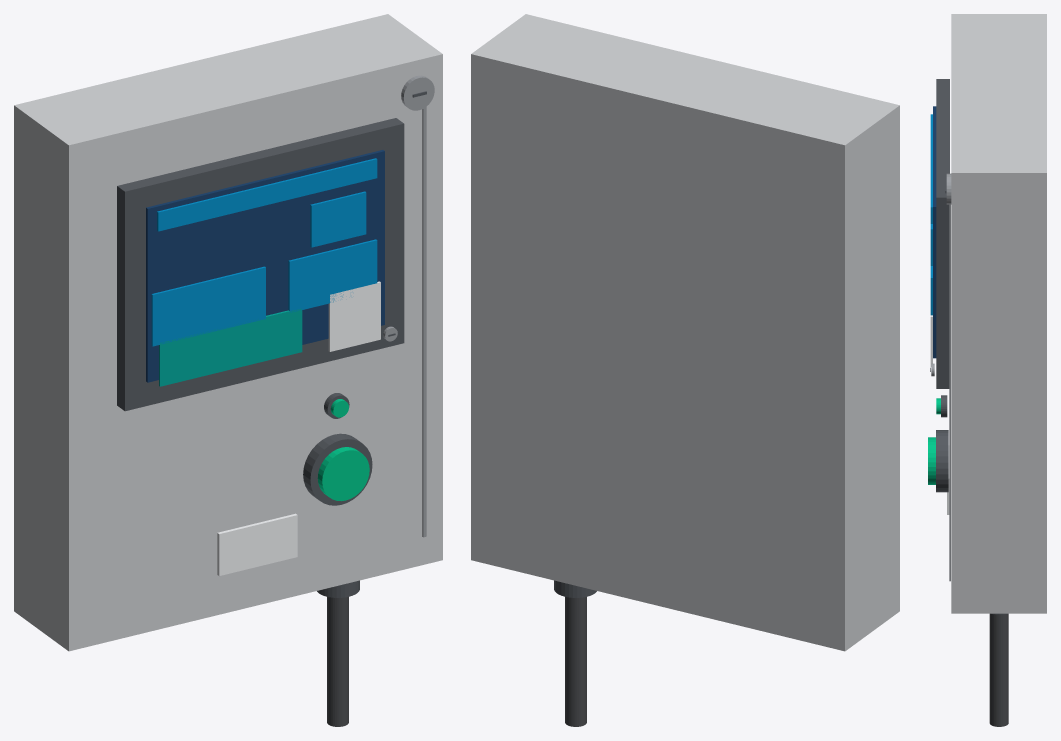
Rendered from q_guard_3d_model.glb.
The picture shows the model from 3 angles, left to right: view 1: azimuth 30°, elevation 25°; view 2: azimuth 150°, elevation 25°; view 3: azimuth 270°, elevation 25°; orthographic projection. The views are drawn at different scales.
Parts seen in each view (by area): view 1: Q-GUARD enclosure, LCD bezel, LCD glass, risk card, environment card, LCD header, sensor card, IP66 label plate, menu tile, cable, temperature card, pushbutton face (+3 smaller); view 2: Q-GUARD enclosure, cable; view 3: Q-GUARD enclosure, LCD bezel, cable, LCD glass, pushbutton outer ring, right side seam, pushbutton face, LCD header.
Part boxes in pixels (left/top/right/bottom): Q-GUARD enclosure: left=14, top=14, right=442, bottom=651; LCD bezel: left=117, top=118, right=404, bottom=411; LCD glass: left=146, top=150, right=384, bottom=382; risk card: left=159, top=308, right=302, bottom=386; environment card: left=151, top=266, right=265, bottom=346; LCD header: left=157, top=158, right=377, bottom=231; sensor card: left=288, top=239, right=377, bottom=312; IP66 label plate: left=217, top=513, right=297, bottom=575; menu tile: left=328, top=281, right=380, bottom=351; cable: left=327, top=597, right=348, bottom=726; temperature card: left=310, top=191, right=366, bottom=247; pushbutton face: left=317, top=447, right=369, bottom=501; Q-GUARD enclosure: left=471, top=14, right=899, bottom=651; cable: left=565, top=597, right=586, bottom=726; Q-GUARD enclosure: left=951, top=14, right=1046, bottom=613; LCD bezel: left=936, top=79, right=949, bottom=388; cable: left=989, top=613, right=1008, bottom=726; LCD glass: left=933, top=106, right=936, bottom=358; pushbutton outer ring: left=936, top=430, right=948, bottom=492; right side seam: left=949, top=204, right=950, bottom=581; pushbutton face: left=928, top=437, right=935, bottom=484; LCD header: left=930, top=114, right=932, bottom=223.
Size of the model in its own units: 2.05 by 3.51 by 0.6475.
